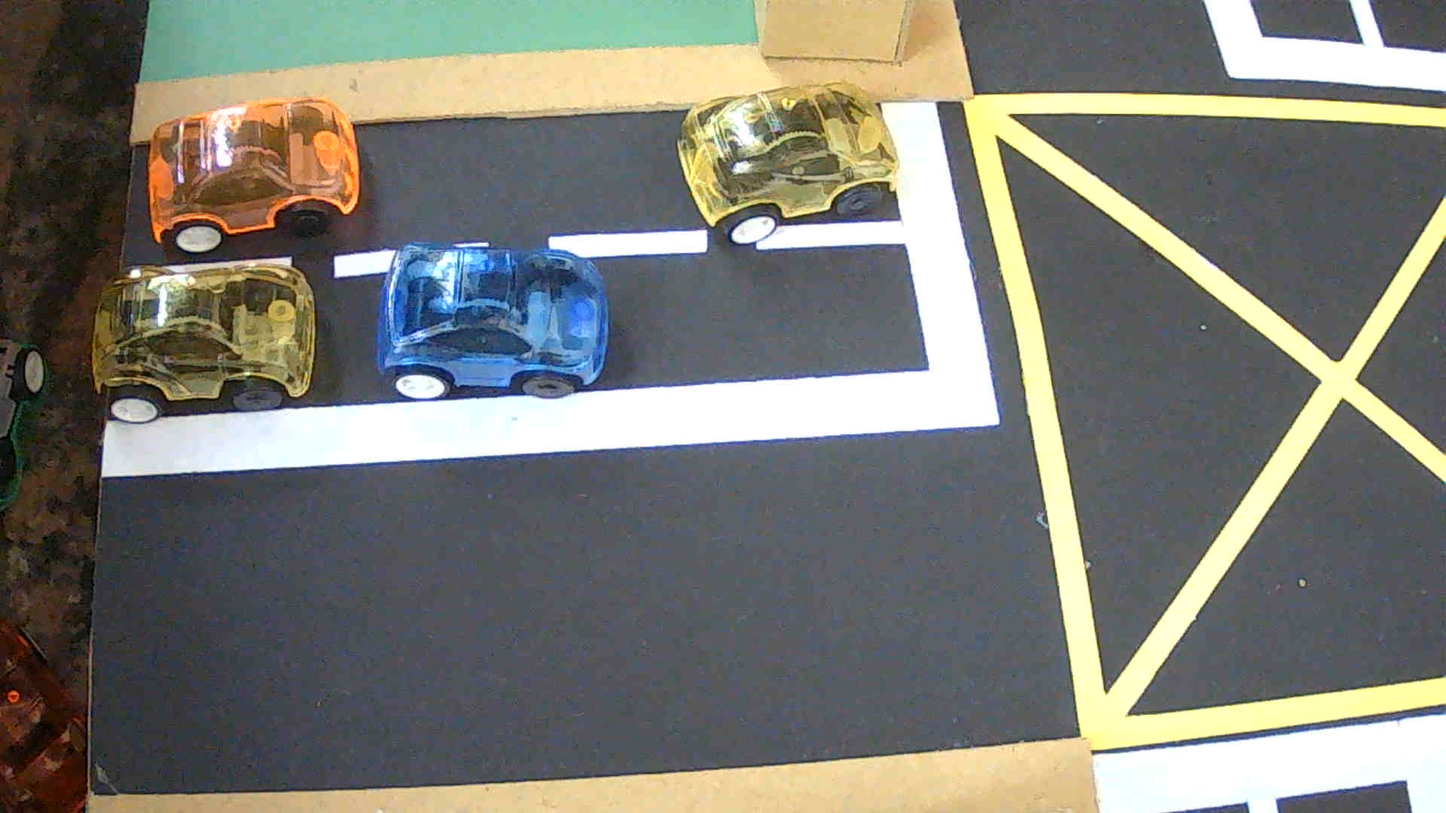Mobil biru: (377, 243, 609, 399)
Mobil kuning: (676, 83, 897, 244), (93, 263, 316, 422)
Mobil orange: (147, 98, 359, 254)
